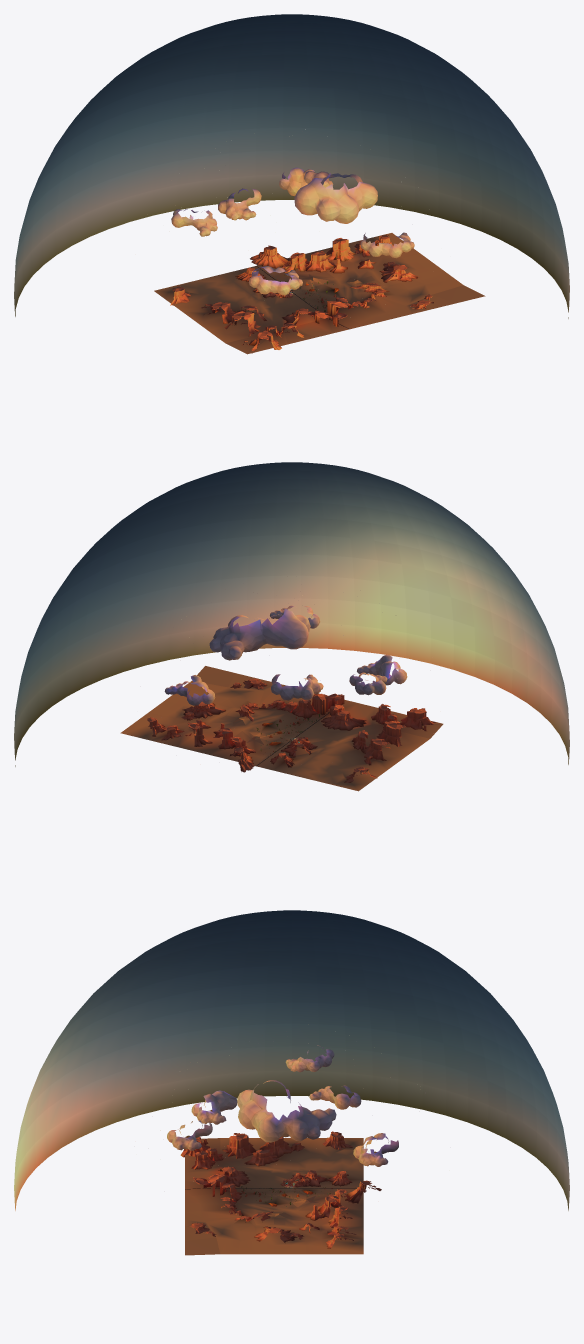
File: Course_ENV_v22-v005.glb
3 renders of one model, top to bottom at view 1: azimuth 30°, elevation 25°; view 2: azimuth 150°, elevation 25°; view 3: azimuth 270°, elevation 25°, orthographic.
Visible parts, largest first — view 1: environment; view 2: environment; view 3: environment.
Boxes of the visible parts, box(x1,y1,x2,y2) form: environment: box(14, 14, 569, 354); environment: box(14, 462, 569, 791); environment: box(14, 910, 569, 1255).
Size of the model in its own units: 6209 by 3409 by 6209.
